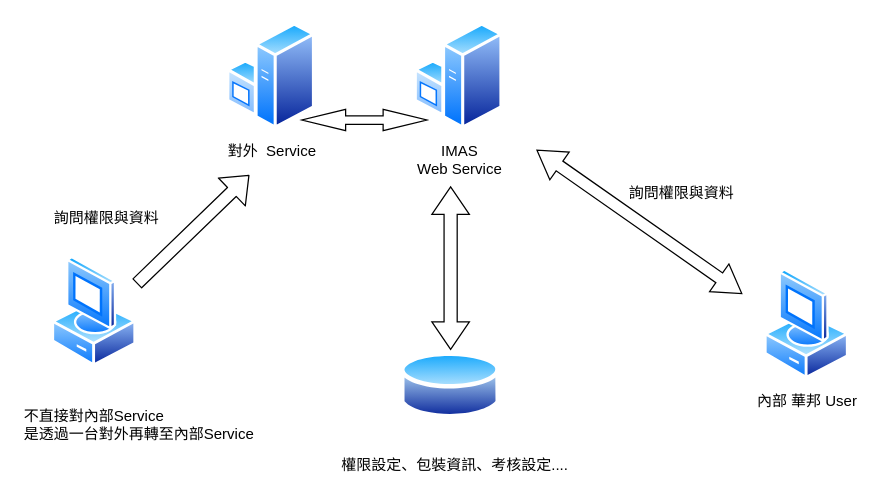
Image size: 879x499. Some labels were removed from this diagram. Each missing label, with the box of its shape:
外部 Subcon: (51, 255, 136, 368)
資料庫: (400, 348, 500, 422)
